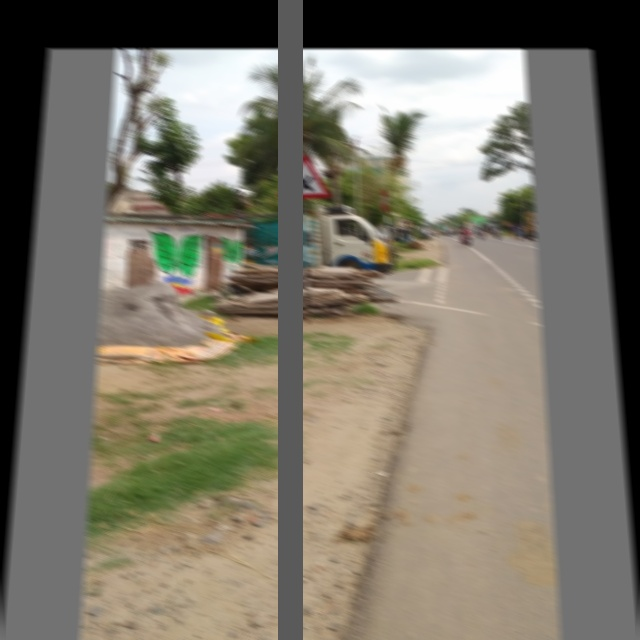Cross_Road: (276, 151, 331, 200)
